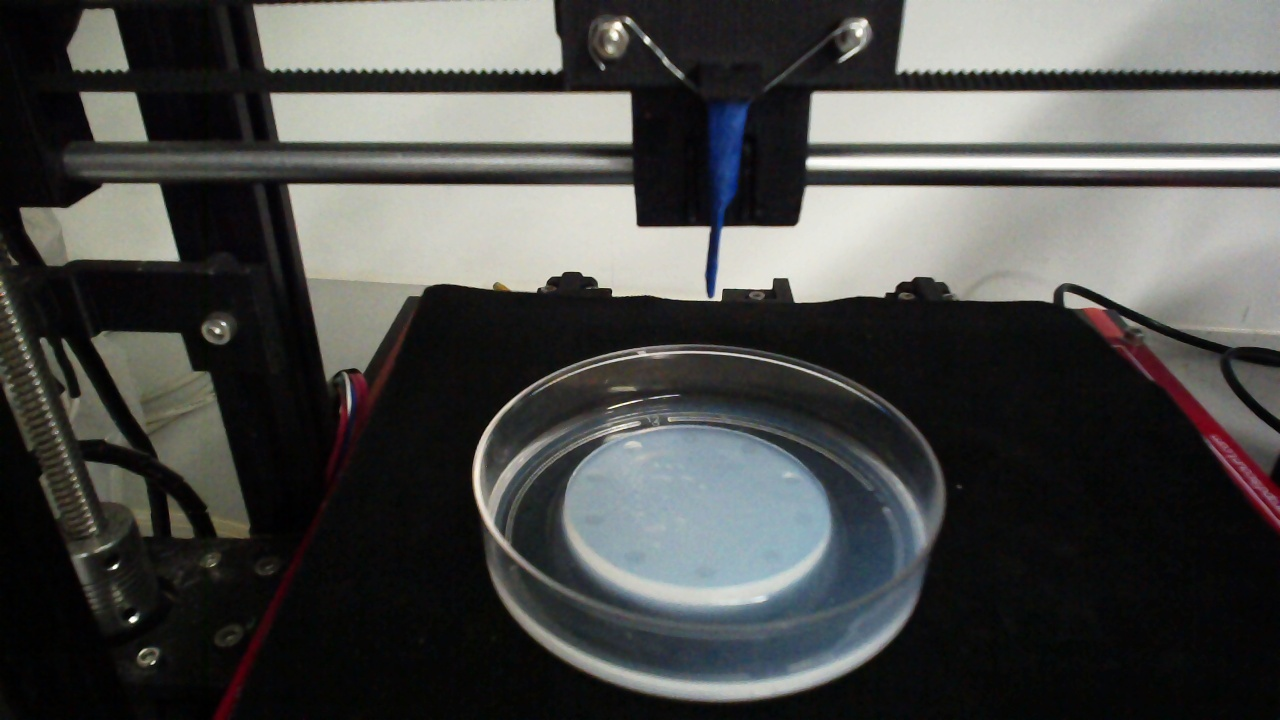groove: (622, 548, 649, 568), (758, 547, 783, 567), (790, 507, 815, 527), (693, 561, 718, 580), (580, 468, 606, 486), (581, 510, 605, 528), (781, 470, 804, 488), (622, 439, 645, 455), (738, 441, 757, 457), (678, 430, 698, 445)
needle: (706, 101, 746, 298)
